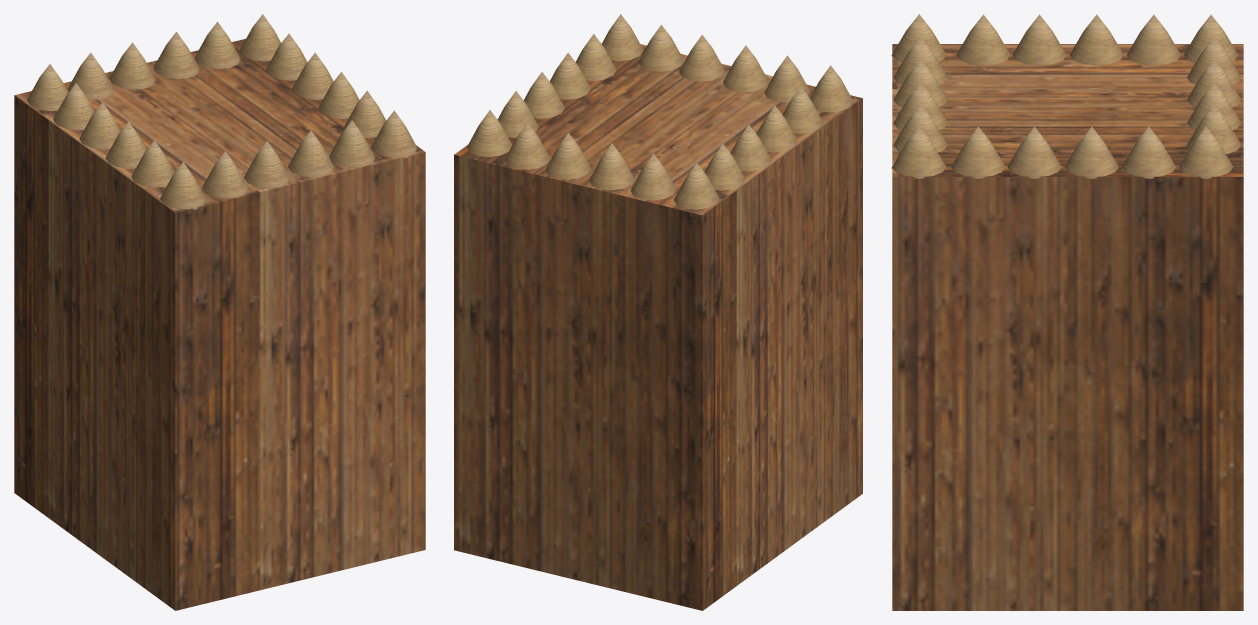
The model's file is Torre Fija.FBX.
3 views of the same model, side by side, from view 1: azimuth 30°, elevation 25°; view 2: azimuth 150°, elevation 25°; view 3: azimuth 270°, elevation 25° (orthographic). The views are drawn at different scales.
Parts seen in each view (by area): view 1: Object001; view 2: Object001; view 3: Object001.
Boxes of the visible parts, x1=… form: Object001: x1=14, y1=14, x2=425, y2=610; Object001: x1=454, y1=14, x2=862, y2=610; Object001: x1=891, y1=14, x2=1243, y2=610.
Size of the model in its own units: 170 by 282 by 190.
